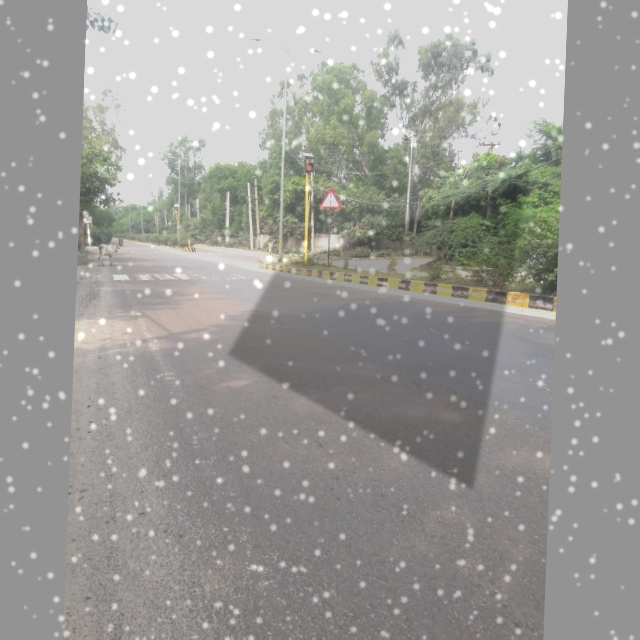Gap_in_Median: (318, 184, 343, 212)
